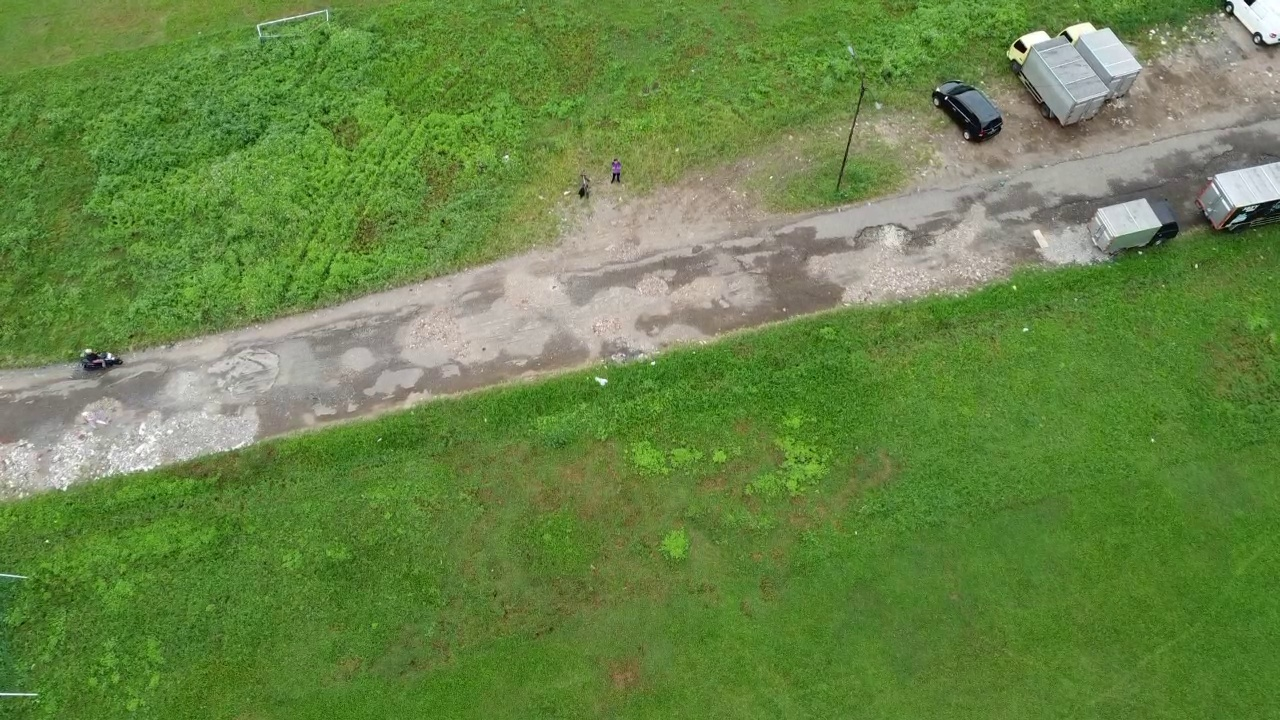mobil: (926, 68, 1011, 146), (1218, 1, 1280, 54)
